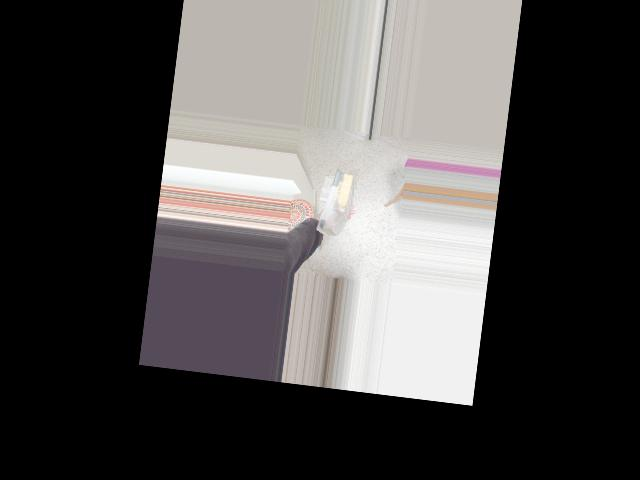cheese: (313, 168, 357, 240)
